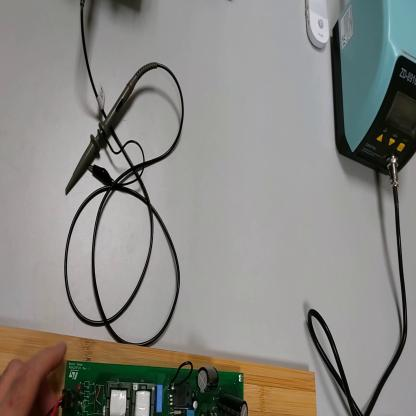hand: (2, 342, 67, 414)
high voltage board: (47, 360, 250, 416)
oscilloscope probe tip: (66, 68, 142, 196)
welder station: (333, 1, 416, 174)
working area: (1, 326, 319, 416)
